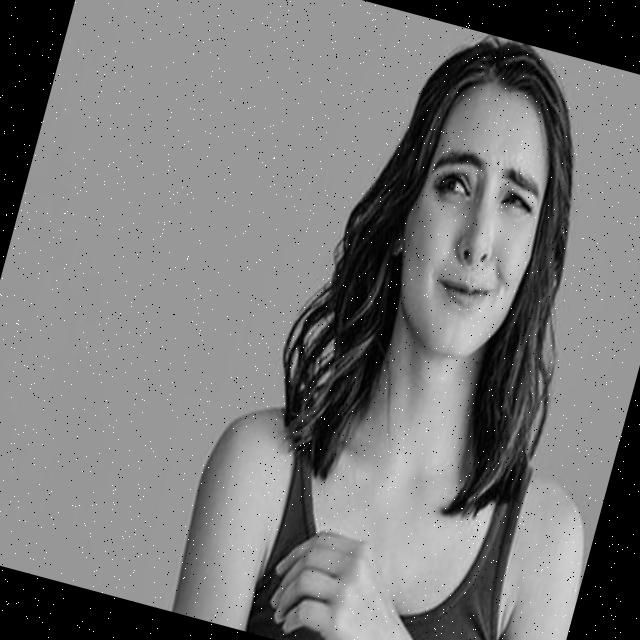Disgust: (378, 69, 574, 375)
